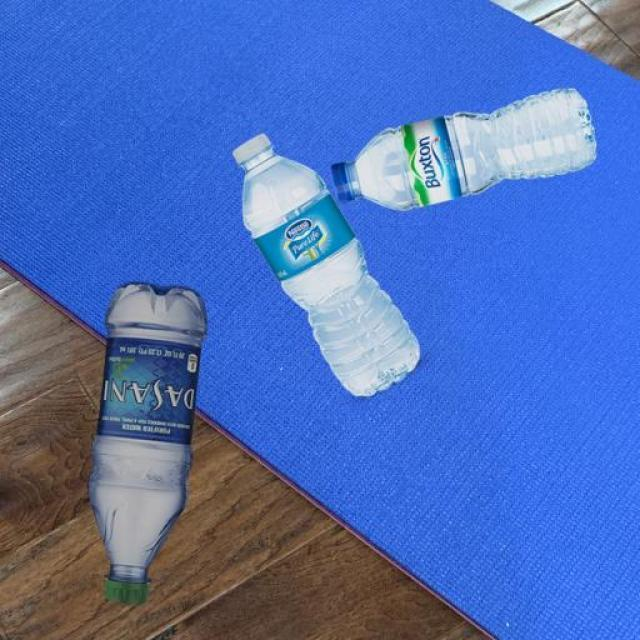bottle: (230, 132, 420, 398), (86, 280, 208, 605), (330, 85, 598, 213)
